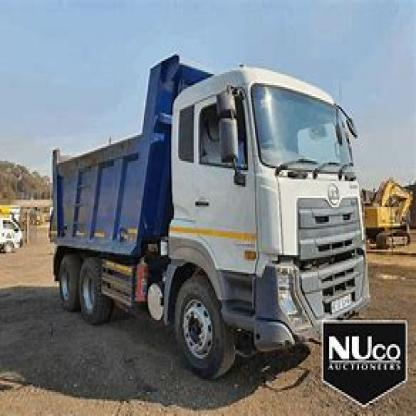dump_truck: (40, 48, 372, 379)
